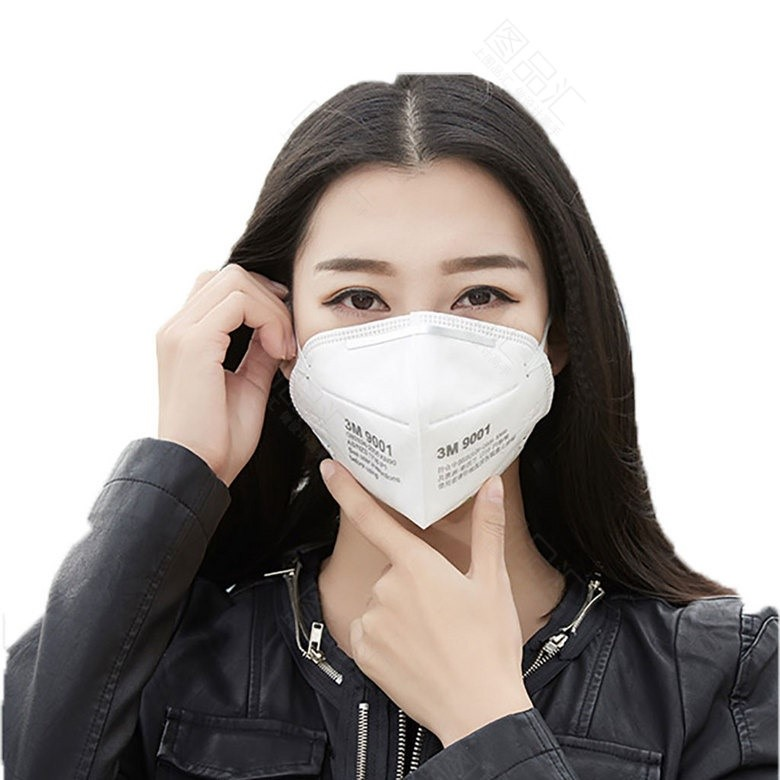face_with_mask: (248, 71, 615, 535)
